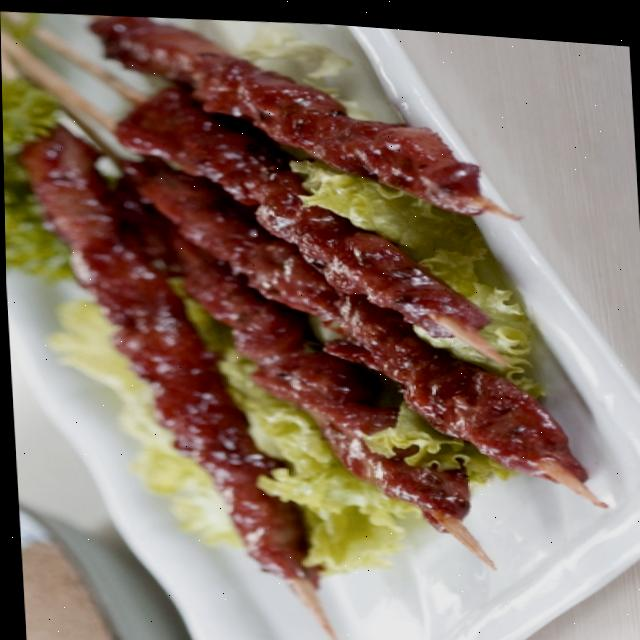烧串烤肉: (3, 0, 640, 640)
